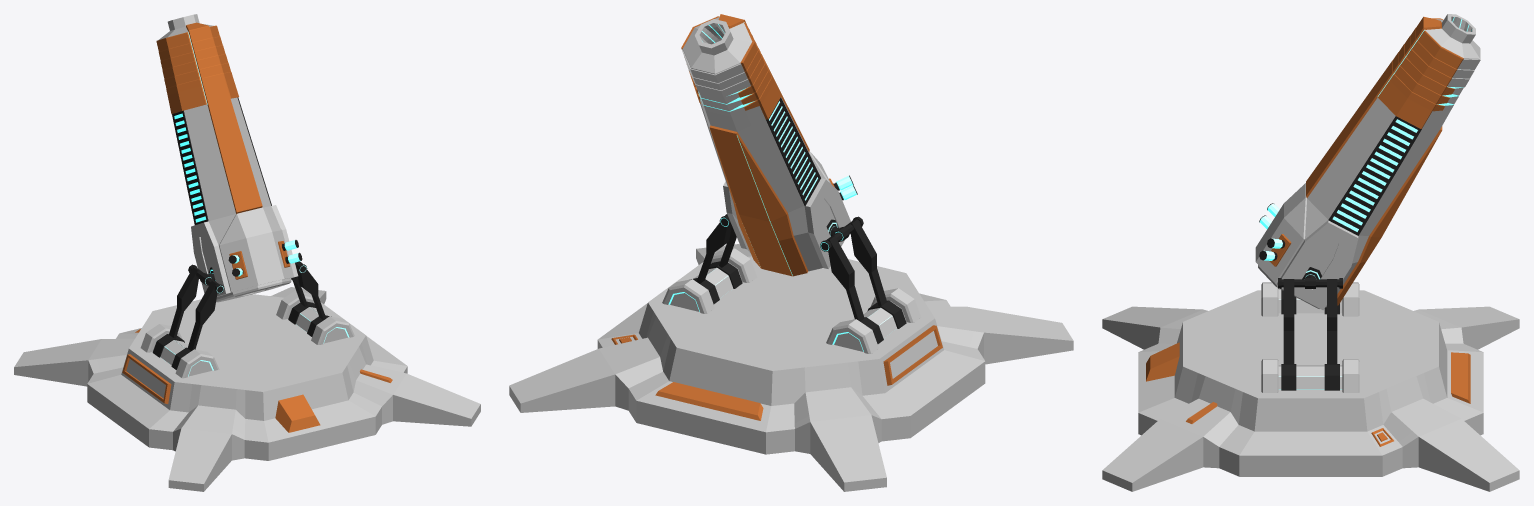
Rendered from Torre_Area.fbx.
3 renders of one model, left to right at view 1: azimuth 30°, elevation 25°; view 2: azimuth 150°, elevation 25°; view 3: azimuth 270°, elevation 25°, orthographic. The views are drawn at different scales.
Visible parts, largest first — view 1: Cylinder, Cylinder.002, Cylinder.001, Cylinder.005, Cylinder.003, Cylinder.004; view 2: Cylinder, Cylinder.002, Cylinder.001, Cylinder.003, Cylinder.005, Cylinder.006; view 3: Cylinder, Cylinder.002, Cylinder.001, Cylinder.004, Cylinder.006.
Part boxes in pixels (x1,y1,x2,y2): Cylinder: (14,287,480,491); Cylinder.002: (156,14,302,302); Cylinder.001: (140,291,354,378); Cylinder.005: (169,267,199,338); Cylinder.003: (187,280,218,350); Cylinder.004: (296,261,326,320); Cylinder: (509,244,1073,491); Cylinder.002: (681,14,857,276); Cylinder.001: (662,248,921,353); Cylinder.003: (849,219,886,305); Cylinder.005: (827,236,864,321); Cylinder.006: (696,214,731,283); Cylinder: (1102,290,1519,491); Cylinder.002: (1255,14,1480,310); Cylinder.001: (1261,282,1359,392); Cylinder.004: (1283,279,1294,364); Cylinder.006: (1327,279,1337,364).
Size of the model in its own units: 2.3 by 2.3 by 2.36.
